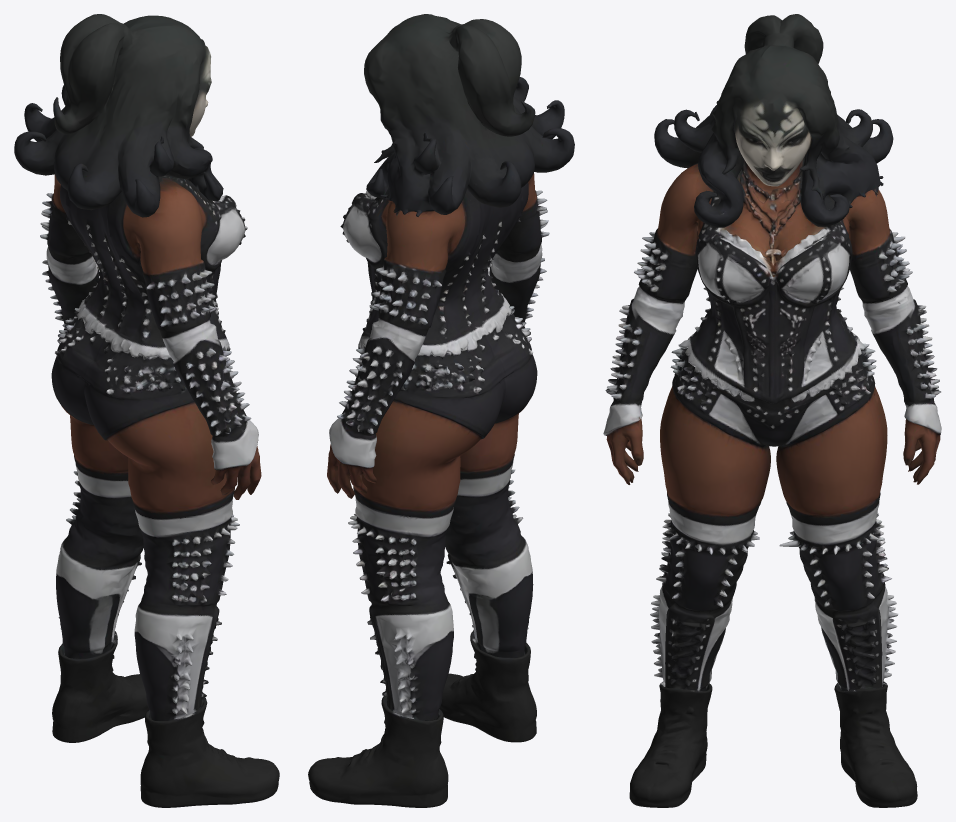
File: onyxcorsetandvamppaint.glb
3 renders of one model, left to right at view 1: azimuth 30°, elevation 25°; view 2: azimuth 150°, elevation 25°; view 3: azimuth 270°, elevation 25°, orthographic.
Visible parts, largest first — view 1: tripo_node_7079dc00-4884-405e-b748-e7488c339d4c; view 2: tripo_node_7079dc00-4884-405e-b748-e7488c339d4c; view 3: tripo_node_7079dc00-4884-405e-b748-e7488c339d4c.
Part boxes in pixels (x1=…): tripo_node_7079dc00-4884-405e-b748-e7488c339d4c: x1=14, y1=14, x2=279, y2=807; tripo_node_7079dc00-4884-405e-b748-e7488c339d4c: x1=308, y1=14, x2=574, y2=807; tripo_node_7079dc00-4884-405e-b748-e7488c339d4c: x1=603, y1=14, x2=941, y2=807.
Size of the model in its own units: 0.2511 by 1 by 0.412.
1 material, 1 textured.
